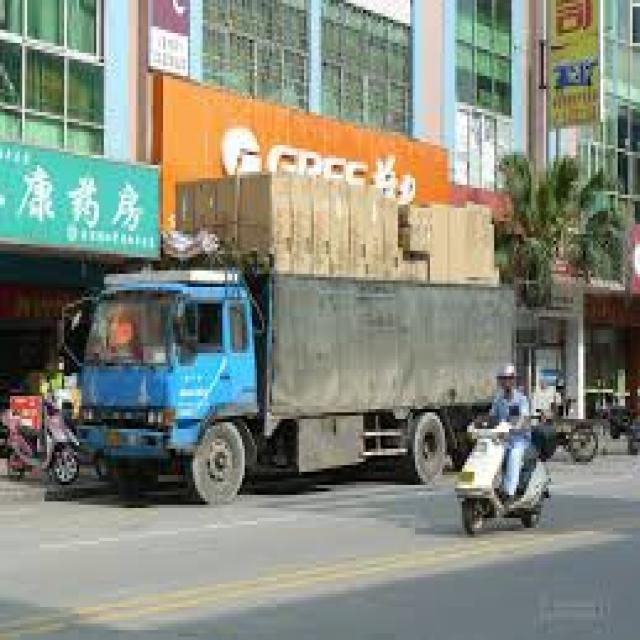uncovered: (84, 168, 516, 496)
